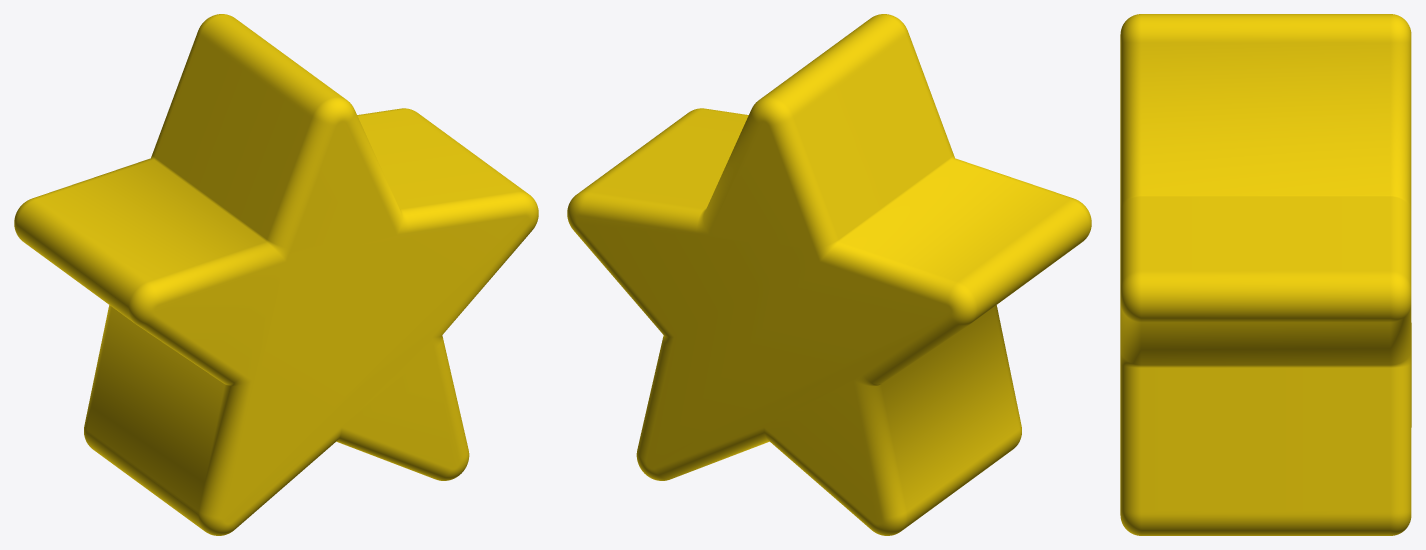
The model's file is star.glb.
The picture shows the model from 3 angles, left to right: view 1: azimuth 30°, elevation 25°; view 2: azimuth 150°, elevation 25°; view 3: azimuth 270°, elevation 25°; orthographic projection. The views are drawn at different scales.
Visible parts, largest first — view 1: Curve.001; view 2: Curve.001; view 3: Curve.001.
Boxes of the visible parts, bbox=[...] form: Curve.001: bbox=[14, 14, 538, 535]; Curve.001: bbox=[567, 14, 1091, 535]; Curve.001: bbox=[1120, 14, 1411, 535].
Size of the model in its own units: 0.2008 by 0.1925 by 0.1114.
